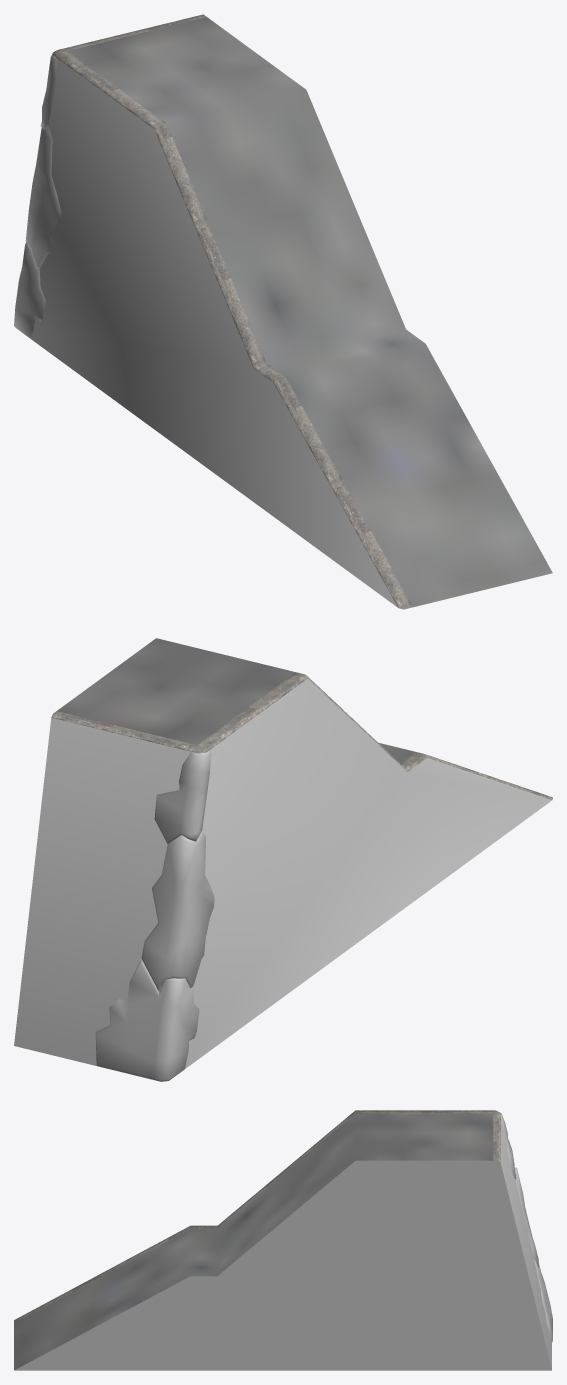
File: JpHouseJ_StoneWall_slope10r.fbx
The picture shows the model from 3 angles, top to bottom: view 1: azimuth 30°, elevation 25°; view 2: azimuth 150°, elevation 25°; view 3: azimuth 270°, elevation 25°; orthographic projection. The views are drawn at different scales.
Visible parts, largest first — view 1: JpHouseJ_StoneWall_slope10r; view 2: JpHouseJ_StoneWall_slope10r; view 3: JpHouseJ_StoneWall_slope10r.
Boxes of the visible parts, bbox=[...] form: JpHouseJ_StoneWall_slope10r: bbox=[14, 14, 552, 609]; JpHouseJ_StoneWall_slope10r: bbox=[14, 638, 552, 1081]; JpHouseJ_StoneWall_slope10r: bbox=[14, 1110, 552, 1370].
Bounding box in the file's own units: 2.17 × 4.03 × 9.37.
